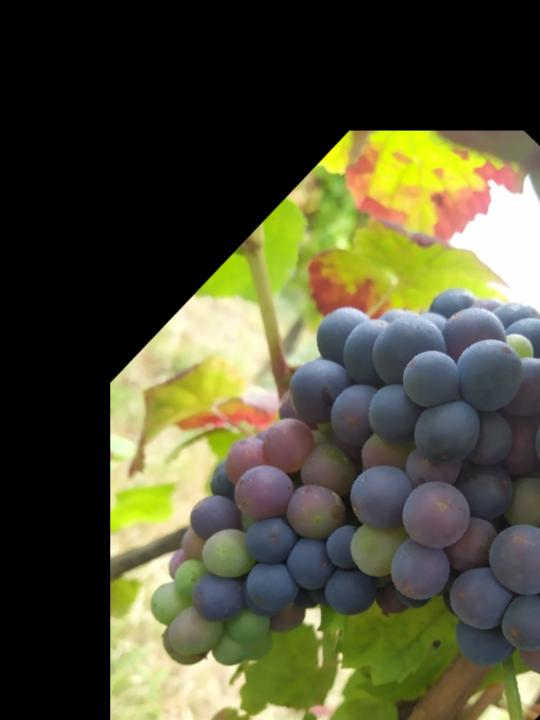grape: (77, 195, 540, 720)
